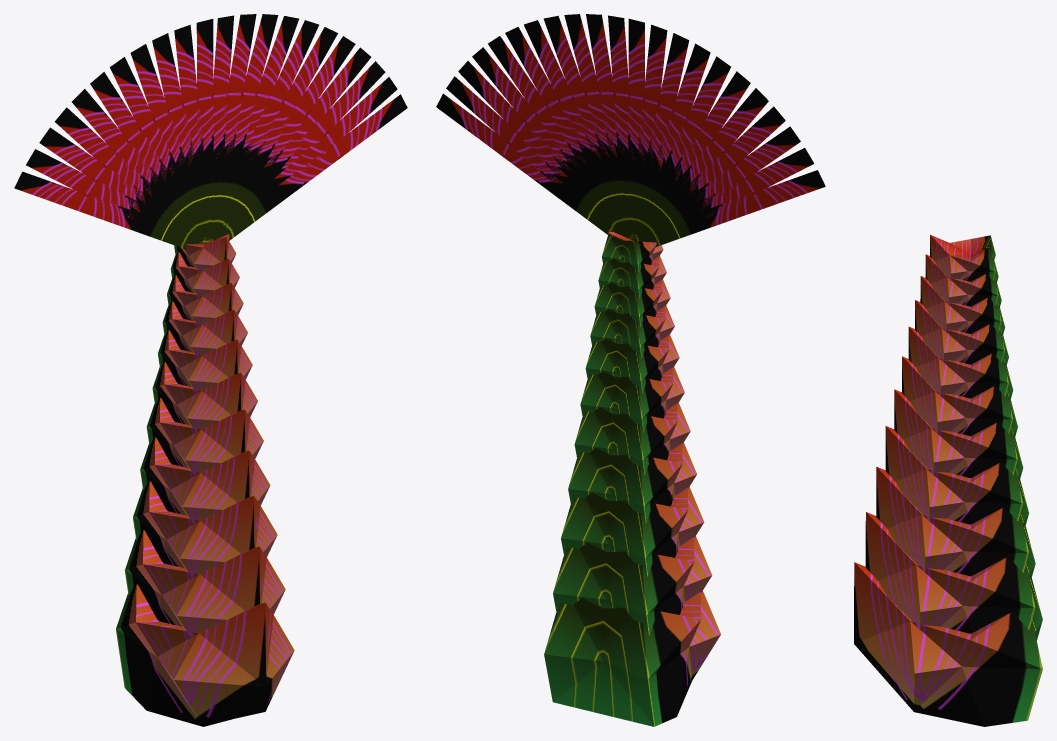
The model's file is palmier_02.fbx.
The picture shows the model from 3 angles, left to right: view 1: azimuth 30°, elevation 25°; view 2: azimuth 150°, elevation 25°; view 3: azimuth 270°, elevation 25°; orthographic projection. The views are drawn at different scales.
Visible parts, largest first — view 1: pCube2 (×11), pPlane1 (×2), pPlane10 (×2), pPlane5 (×2), pPlane3 (×2), pPlane11 (×2), pPlane2 (×2), pPlane8 (×2), pPlane7 (×2), pPlane4 (×2), pPlane6 (×2), pCube1 (×4) (+1 smaller); view 2: pCube2 (×11), pCube1 (×9), pPlane1 (×2), pPlane10 (×2), pPlane5 (×2), pPlane4 (×2), pPlane11 (×2), pPlane7 (×2), pPlane2 (×2), pPlane3 (×2), pPlane9 (×2), pPlane6 (×2) (+1 smaller); view 3: pCube1 (×11), pCube2 (×2).
Boxes of the visible parts, x1,y1,x2,y2 form: pCube2 (×11): [116, 237, 265, 726]; pPlane1 (×2): [14, 15, 234, 249]; pPlane10 (×2): [174, 24, 397, 242]; pPlane5 (×2): [72, 20, 318, 236]; pPlane3 (×2): [39, 14, 278, 243]; pPlane11 (×2): [196, 19, 407, 243]; pPlane2 (×2): [26, 14, 256, 246]; pPlane8 (×2): [130, 44, 371, 242]; pPlane7 (×2): [110, 36, 355, 240]; pPlane4 (×2): [54, 16, 298, 242]; pPlane6 (×2): [90, 27, 337, 239]; pCube1 (×4): [235, 451, 294, 718]; pCube2 (×11): [603, 240, 720, 726]; pCube1 (×9): [544, 282, 620, 714]; pPlane1 (×2): [608, 15, 825, 247]; pPlane10 (×2): [446, 24, 667, 240]; pPlane5 (×2): [524, 20, 768, 241]; pPlane4 (×2): [543, 15, 785, 241]; pPlane11 (×2): [436, 18, 644, 234]; pPlane7 (×2): [488, 36, 730, 237]; pPlane2 (×2): [586, 14, 814, 243]; pPlane3 (×2): [564, 14, 800, 237]; pPlane9 (×2): [458, 33, 689, 239]; pPlane6 (×2): [505, 27, 750, 239]; pCube1 (×11): [854, 235, 1042, 726]; pCube2 (×2): [857, 235, 1042, 640].
Bounding box in the file's own units: 4.29 × 7.13 × 1.84.
